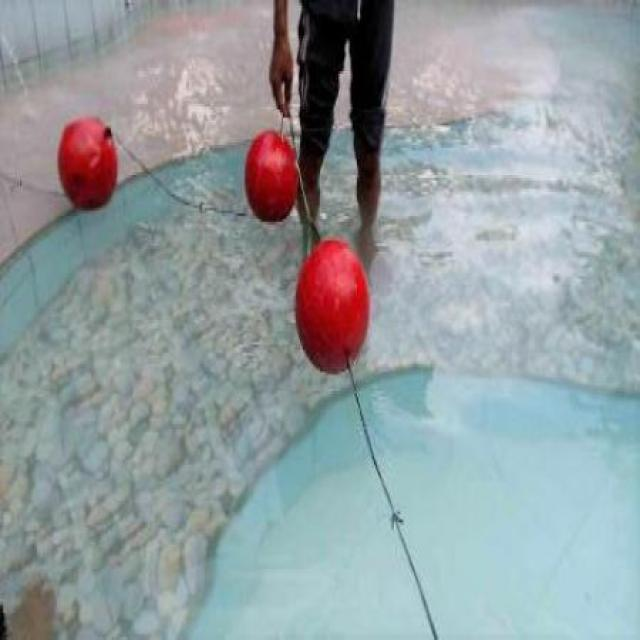buoy: (292, 235, 369, 372), (56, 115, 119, 208), (242, 131, 296, 225)
